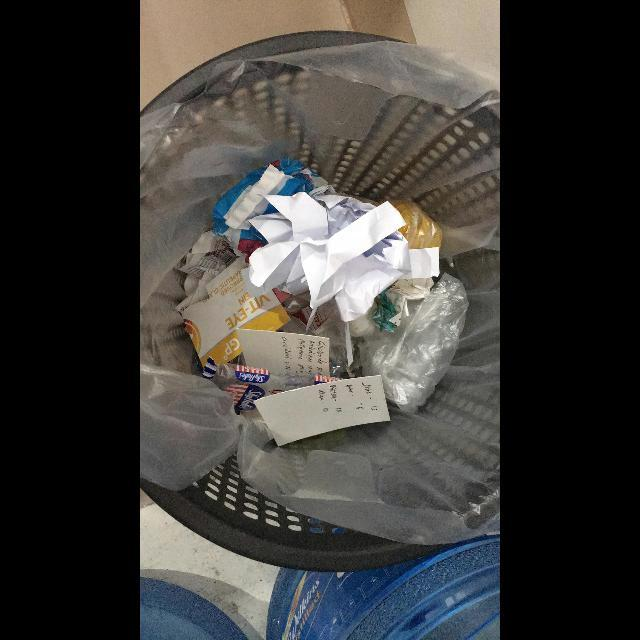cardboard: (254, 375, 391, 447), (236, 329, 330, 376)
food_wrapper: (204, 357, 342, 415)
paper: (241, 186, 440, 323), (176, 255, 290, 369), (212, 158, 328, 257)
plastic_bag: (360, 273, 469, 413)
